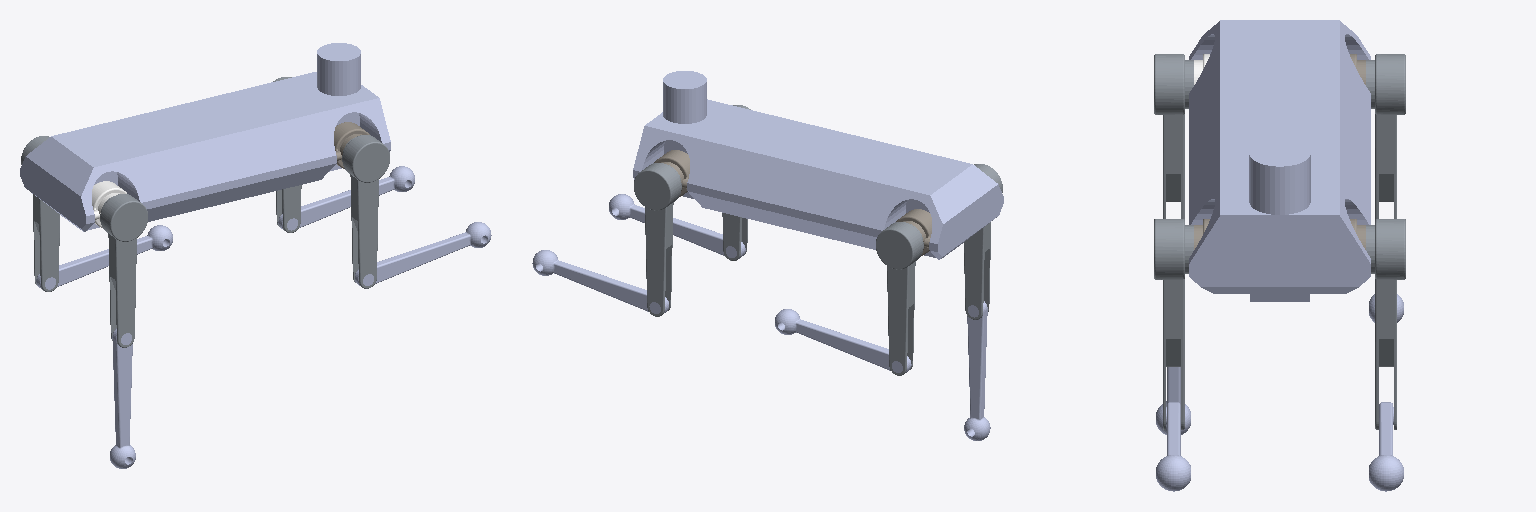
robot.urdf — quadog:
<?xml version="1.0" encoding="utf-8"?>
<!-- This URDF was automatically created by SolidWorks to URDF Exporter! Originally created by [author] ([email redacted]) 
     Commit Version: 1.5.1-0-g916b5db  Build Version: 1.5.7152.31018
     For more information, please see http://wiki.ros.org/sw_urdf_exporter -->
<robot
  name="quadog">
  <link
    name="Body_Link">
    <inertial>
      <origin
        xyz="0.01151 5.0984E-17 0.016155"
        rpy="0 0 0" />
      <mass
        value="29.667" />
      <inertia
        ixx="0.21965"
        ixy="-2.7726E-06"
        ixz="-0.037233"
        iyy="1.3704"
        iyz="8.7205E-18"
        izz="1.4281" />
    </inertial>
    <visual>
      <origin
        xyz="0 0 0"
        rpy="0 0 0" />
      <geometry>
        <mesh
          filename="package://quadog/meshes/Body_Link.STL" />
      </geometry>
      <material
        name="">
        <color
          rgba="0.79216 0.81961 0.93333 1" />
      </material>
    </visual>
    <collision>
      <origin
        xyz="0 0 0"
        rpy="0 0 0" />
      <geometry>
        <mesh
          filename="package://quadog/meshes/Body_Link.STL" />
      </geometry>
    </collision>
  </link>
  <link
    name="FLHipX_Link">
    <inertial>
      <origin
        xyz="-5.7744E-09 -0.029179 -4.2593E-09"
        rpy="0 0 0" />
      <mass
        value="3.8044" />
      <inertia
        ixx="0.0034294"
        ixy="-2.5472E-09"
        ixz="6.2073E-10"
        iyy="0.0046349"
        iyz="4.0148E-10"
        izz="0.0037065" />
    </inertial>
    <visual>
      <origin
        xyz="0 0 0"
        rpy="0 0 0" />
      <geometry>
        <mesh
          filename="package://quadog/meshes/FLHipX_Link.STL" />
      </geometry>
      <material
        name="">
        <color
          rgba="0.64706 0.61961 0.58824 1" />
      </material>
    </visual>
    <collision>
      <origin
        xyz="0 0 0"
        rpy="0 0 0" />
      <geometry>
        <mesh
          filename="package://quadog/meshes/FLHipX_Link.STL" />
      </geometry>
    </collision>
  </link>
  <joint
    name="FLHipX"
    type="revolute">
    <origin
      xyz="0.3175 0.136 0"
      rpy="0 0 0" />
    <parent
      link="Body_Link" />
    <child
      link="FLHipX_Link" />
    <axis
      xyz="1 0 0" />
    <limit
      lower="-0.3839"
      upper="0.3839"
      effort="108"
      velocity="18.6" />
    <dynamics
      damping="0"
      friction="0.01" />
  </joint>
  <link
    name="FLHipY_Link">
    <inertial>
      <origin
        xyz="6.1702E-09 0.00113 -0.058499"
        rpy="0 0 0" />
      <mass
        value="5.5642" />
      <inertia
        ixx="0.039798"
        ixy="-2.3659E-09"
        ixz="3.4687E-09"
        iyy="0.040888"
        iyz="-0.00036845"
        izz="0.0037562" />
    </inertial>
    <visual>
      <origin
        xyz="0 0 0"
        rpy="0 0 0" />
      <geometry>
        <mesh
          filename="package://quadog/meshes/FLHipY_Link.STL" />
      </geometry>
      <material
        name="">
        <color
          rgba="0.61569 0.64314 0.67451 1" />
      </material>
    </visual>
    <collision>
      <origin
        xyz="0 0 0"
        rpy="0 0 0" />
      <geometry>
        <mesh
          filename="package://quadog/meshes/FLHipY_Link.STL" />
      </geometry>
    </collision>
  </link>
  <joint
    name="FLHipY"
    type="revolute">
    <origin
      xyz="0 0.0370000000000001 0"
      rpy="0 0 0" />
    <parent
      link="FLHipX_Link" />
    <child
      link="FLHipY_Link" />
    <axis
      xyz="0 1 0" />
    <limit
      lower="-0.1745"
      upper="1.658"
      effort="140"
      velocity="19" />
    <dynamics
      damping="0"
      friction="0.01" />
  </joint>
  <link
    name="FLKnee_Link">
    <inertial>
      <origin
        xyz="0 -8.3267E-17 -0.16377"
        rpy="0 0 0" />
      <mass
        value="0.33298" />
      <inertia
        ixx="0.0041845"
        ixy="3.1098E-10"
        ixz="1.693E-18"
        iyy="0.0042044"
        iyz="-6.8865E-19"
        izz="7.2362E-05" />
    </inertial>
    <visual>
      <origin
        xyz="0 0 0"
        rpy="0 0 0" />
      <geometry>
        <mesh
          filename="package://quadog/meshes/FLKnee_Link.STL" />
      </geometry>
      <material
        name="">
        <color
          rgba="0.79216 0.81961 0.93333 1" />
      </material>
    </visual>
    <collision>
      <origin
        xyz="0 0 0"
        rpy="0 0 0" />
      <geometry>
        <mesh
          filename="package://quadog/meshes/FLKnee_Link.STL" />
      </geometry>
    </collision>
  </link>
  <joint
    name="FLKnee"
    type="revolute">
    <origin
      xyz="0 0 -0.3"
      rpy="0 0 0" />
    <parent
      link="FLHipY_Link" />
    <child
      link="FLKnee_Link" />
    <axis
      xyz="0 1 0" />
    <limit
      lower="-2.7227"
      upper="-0.6632"
      effort="140"
      velocity="19" />
    <dynamics
      damping="0"
      friction="0.01" />
  </joint>
  <link
    name="HLHipX_Link">
    <inertial>
      <origin
        xyz="-5.7744E-09 -0.029179 -4.2593E-09"
        rpy="0 0 0" />
      <mass
        value="3.8044" />
      <inertia
        ixx="0.0034294"
        ixy="-2.5472E-09"
        ixz="6.2073E-10"
        iyy="0.0046349"
        iyz="4.0148E-10"
        izz="0.0037065" />
    </inertial>
    <visual>
      <origin
        xyz="0 0 0"
        rpy="0 0 0" />
      <geometry>
        <mesh
          filename="package://quadog/meshes/HLHipX_Link.STL" />
      </geometry>
      <material
        name="">
        <color
          rgba="0.64706 0.61961 0.58824 1" />
      </material>
    </visual>
    <collision>
      <origin
        xyz="0 0 0"
        rpy="0 0 0" />
      <geometry>
        <mesh
          filename="package://quadog/meshes/HLHipX_Link.STL" />
      </geometry>
    </collision>
  </link>
  <joint
    name="HLHipX"
    type="revolute">
    <origin
      xyz="-0.3175 0.136 0"
      rpy="0 0 0" />
    <parent
      link="Body_Link" />
    <child
      link="HLHipX_Link" />
    <axis
      xyz="1 0 0" />
    <limit
      lower="-0.3839"
      upper="0.3839"
      effort="108"
      velocity="18.6" />
    <dynamics
      damping="0"
      friction="0.01" />
  </joint>
  <link
    name="HLHipY_Link">
    <inertial>
      <origin
        xyz="6.1702E-09 0.00113 -0.058499"
        rpy="0 0 0" />
      <mass
        value="5.5642" />
      <inertia
        ixx="0.039798"
        ixy="-2.3659E-09"
        ixz="3.4687E-09"
        iyy="0.040888"
        iyz="-0.00036845"
        izz="0.0037562" />
    </inertial>
    <visual>
      <origin
        xyz="0 0 0"
        rpy="0 0 0" />
      <geometry>
        <mesh
          filename="package://quadog/meshes/HLHipY_Link.STL" />
      </geometry>
      <material
        name="">
        <color
          rgba="0.61569 0.64314 0.67451 1" />
      </material>
    </visual>
    <collision>
      <origin
        xyz="0 0 0"
        rpy="0 0 0" />
      <geometry>
        <mesh
          filename="package://quadog/meshes/HLHipY_Link.STL" />
      </geometry>
    </collision>
  </link>
  <joint
    name="HLHipY"
    type="revolute">
    <origin
      xyz="0 0.037 0"
      rpy="0 0 0" />
    <parent
      link="HLHipX_Link" />
    <child
      link="HLHipY_Link" />
    <axis
      xyz="0 1 0" />
    <limit
      lower="-0.1745"
      upper="1.658"
      effort="140"
      velocity="19" />
    <dynamics
      damping="0"
      friction="0.01" />
  </joint>
  <link
    name="HLKnee_Link">
    <inertial>
      <origin
        xyz="0 0 -0.16377"
        rpy="0 0 0" />
      <mass
        value="0.33298" />
      <inertia
        ixx="0.0041845"
        ixy="3.1098E-10"
        ixz="1.4157E-18"
        iyy="0.0042044"
        iyz="-8.7851E-19"
        izz="7.2362E-05" />
    </inertial>
    <visual>
      <origin
        xyz="0 0 0"
        rpy="0 0 0" />
      <geometry>
        <mesh
          filename="package://quadog/meshes/HLKnee_Link.STL" />
      </geometry>
      <material
        name="">
        <color
          rgba="0.79216 0.81961 0.93333 1" />
      </material>
    </visual>
    <collision>
      <origin
        xyz="0 0 0"
        rpy="0 0 0" />
      <geometry>
        <mesh
          filename="package://quadog/meshes/HLKnee_Link.STL" />
      </geometry>
    </collision>
  </link>
  <joint
    name="HLKnee"
    type="revolute">
    <origin
      xyz="0 0 -0.3"
      rpy="0 0 0" />
    <parent
      link="HLHipY_Link" />
    <child
      link="HLKnee_Link" />
    <axis
      xyz="0 1 0" />
    <limit
      lower="-2.7227"
      upper="-0.6632"
      effort="140"
      velocity="19" />
    <dynamics
      damping="0"
      friction="0.01" />
  </joint>
  <link
    name="FRHipX_Link">
    <inertial>
      <origin
        xyz="-5.7744E-09 0.029179 4.2593E-09"
        rpy="0 0 0" />
      <mass
        value="3.8044" />
      <inertia
        ixx="0.0034294"
        ixy="2.5472E-09"
        ixz="-6.2073E-10"
        iyy="0.0046349"
        iyz="4.0148E-10"
        izz="0.0037065" />
    </inertial>
    <visual>
      <origin
        xyz="0 0 0"
        rpy="0 0 0" />
      <geometry>
        <mesh
          filename="package://quadog/meshes/FRHipX_Link.STL" />
      </geometry>
      <material
        name="">
        <color
          rgba="0.64706 0.61961 0.58824 1" />
      </material>
    </visual>
    <collision>
      <origin
        xyz="0 0 0"
        rpy="0 0 0" />
      <geometry>
        <mesh
          filename="package://quadog/meshes/FRHipX_Link.STL" />
      </geometry>
    </collision>
  </link>
  <joint
    name="FRHipX"
    type="revolute">
    <origin
      xyz="0.3175 -0.136 0"
      rpy="0 0 0" />
    <parent
      link="Body_Link" />
    <child
      link="FRHipX_Link" />
    <axis
      xyz="1 0 0" />
    <limit
      lower="-0.3839"
      upper="0.3839"
      effort="108"
      velocity="18.6" />
    <dynamics
      damping="0"
      friction="0.01" />
  </joint>
  <link
    name="FRHipY_Link">
    <inertial>
      <origin
        xyz="-6.1702E-09 -0.00113 -0.058499"
        rpy="0 0 0" />
      <mass
        value="5.5642" />
      <inertia
        ixx="0.039798"
        ixy="-2.3659E-09"
        ixz="-3.4687E-09"
        iyy="0.040888"
        iyz="0.00036845"
        izz="0.0037562" />
    </inertial>
    <visual>
      <origin
        xyz="0 0 0"
        rpy="0 0 0" />
      <geometry>
        <mesh
          filename="package://quadog/meshes/FRHipY_Link.STL" />
      </geometry>
      <material
        name="">
        <color
          rgba="0.61569 0.64314 0.67451 1" />
      </material>
    </visual>
    <collision>
      <origin
        xyz="0 0 0"
        rpy="0 0 0" />
      <geometry>
        <mesh
          filename="package://quadog/meshes/FRHipY_Link.STL" />
      </geometry>
    </collision>
  </link>
  <joint
    name="FRHipY"
    type="revolute">
    <origin
      xyz="0 -0.037 0"
      rpy="0 0 0" />
    <parent
      link="FRHipX_Link" />
    <child
      link="FRHipY_Link" />
    <axis
      xyz="0 1 0" />
    <limit
      lower="-0.1745"
      upper="1.658"
      effort="140"
      velocity="19" />
    <dynamics
      damping="0"
      friction="0.01" />
  </joint>
  <link
    name="FRKnee_Link">
    <inertial>
      <origin
        xyz="1.1102E-16 1.3878E-16 -0.16377"
        rpy="0 0 0" />
      <mass
        value="0.33298" />
      <inertia
        ixx="0.0041845"
        ixy="3.1098E-10"
        ixz="-9.8165E-19"
        iyy="0.0042044"
        iyz="-4.3862E-19"
        izz="7.2362E-05" />
    </inertial>
    <visual>
      <origin
        xyz="0 0 0"
        rpy="0 0 0" />
      <geometry>
        <mesh
          filename="package://quadog/meshes/FRKnee_Link.STL" />
      </geometry>
      <material
        name="">
        <color
          rgba="0.79216 0.81961 0.93333 1" />
      </material>
    </visual>
    <collision>
      <origin
        xyz="0 0 0"
        rpy="0 0 0" />
      <geometry>
        <mesh
          filename="package://quadog/meshes/FRKnee_Link.STL" />
      </geometry>
    </collision>
  </link>
  <joint
    name="FRKnee"
    type="revolute">
    <origin
      xyz="0 0 -0.3"
      rpy="0 0 0" />
    <parent
      link="FRHipY_Link" />
    <child
      link="FRKnee_Link" />
    <axis
      xyz="0 1 0" />
    <limit
      lower="-2.7227"
      upper="-0.6632"
      effort="140"
      velocity="19" />
    <dynamics
      damping="0"
      friction="0.01" />
  </joint>
  <link
    name="HRHipX_Link">
    <inertial>
      <origin
        xyz="0 0 0"
        rpy="0 0 0" />
      <mass
        value="0" />
      <inertia
        ixx="0"
        ixy="0"
        ixz="0"
        iyy="0"
        iyz="0"
        izz="0" />
    </inertial>
    <visual>
      <origin
        xyz="0 0 0"
        rpy="0 0 0" />
      <geometry>
        <mesh
          filename="package://quadog/meshes/HRHipX_Link.STL" />
      </geometry>
      <material
        name="">
        <color
          rgba="1 1 1 1" />
      </material>
    </visual>
    <collision>
      <origin
        xyz="0 0 0"
        rpy="0 0 0" />
      <geometry>
        <mesh
          filename="package://quadog/meshes/HRHipX_Link.STL" />
      </geometry>
    </collision>
  </link>
  <joint
    name="HRHipX"
    type="revolute">
    <origin
      xyz="-0.3175 -0.136 0"
      rpy="0 0 0" />
    <parent
      link="Body_Link" />
    <child
      link="HRHipX_Link" />
    <axis
      xyz="1 0 0" />
    <limit
      lower="-0.3839"
      upper="0.3839"
      effort="108"
      velocity="18.6" />
    <dynamics
      damping="0"
      friction="0.01" />
  </joint>
  <link
    name="HRHipY_Link">
    <inertial>
      <origin
        xyz="-6.1702E-09 -0.00113 -0.058499"
        rpy="0 0 0" />
      <mass
        value="5.5642" />
      <inertia
        ixx="0.039798"
        ixy="-2.3659E-09"
        ixz="-3.4687E-09"
        iyy="0.040888"
        iyz="0.00036845"
        izz="0.0037562" />
    </inertial>
    <visual>
      <origin
        xyz="0 0 0"
        rpy="0 0 0" />
      <geometry>
        <mesh
          filename="package://quadog/meshes/HRHipY_Link.STL" />
      </geometry>
      <material
        name="">
        <color
          rgba="0.61569 0.64314 0.67451 1" />
      </material>
    </visual>
    <collision>
      <origin
        xyz="0 0 0"
        rpy="0 0 0" />
      <geometry>
        <mesh
          filename="package://quadog/meshes/HRHipY_Link.STL" />
      </geometry>
    </collision>
  </link>
  <joint
    name="HRHipY"
    type="revolute">
    <origin
      xyz="0 -0.037 0"
      rpy="0 0 0" />
    <parent
      link="HRHipX_Link" />
    <child
      link="HRHipY_Link" />
    <axis
      xyz="0 1 0" />
    <limit
      lower="-0.1745"
      upper="1.658"
      effort="140"
      velocity="19" />
    <dynamics
      damping="0"
      friction="0.01" />
  </joint>
  <link
    name="HRKnee_Link">
    <inertial>
      <origin
        xyz="5.5511E-17 -2.7756E-17 -0.16377"
        rpy="0 0 0" />
      <mass
        value="0.33298" />
      <inertia
        ixx="0.0041845"
        ixy="3.1098E-10"
        ixz="1.5955E-18"
        iyy="0.0042044"
        iyz="-4.4296E-19"
        izz="7.2362E-05" />
    </inertial>
    <visual>
      <origin
        xyz="0 0 0"
        rpy="0 0 0" />
      <geometry>
        <mesh
          filename="package://quadog/meshes/HRKnee_Link.STL" />
      </geometry>
      <material
        name="">
        <color
          rgba="0.79216 0.81961 0.93333 1" />
      </material>
    </visual>
    <collision>
      <origin
        xyz="0 0 0"
        rpy="0 0 0" />
      <geometry>
        <mesh
          filename="package://quadog/meshes/HRKnee_Link.STL" />
      </geometry>
    </collision>
  </link>
  <joint
    name="HRKnee"
    type="revolute">
    <origin
      xyz="0 0 -0.3"
      rpy="0 0 0" />
    <parent
      link="HRHipY_Link" />
    <child
      link="HRKnee_Link" />
    <axis
      xyz="0 1 0" />
    <limit
      lower="-2.7227"
      upper="0.6632"
      effort="140"
      velocity="19" />
    <dynamics
      damping="0"
      friction="0.01" />
  </joint>
</robot>

--- Render facts (derived) ---
3 views of the same robot in one strip: view 1: azimuth 30°, elevation 25°; view 2: azimuth 150°, elevation 25°; view 3: azimuth 270°, elevation 25° (orthographic).
Model quadog with 13 links and 12 joints (12 revolute), rooted at Body_Link, posed joints at zero except 3 at the middle of their limits (FLKnee = -1.69, HLKnee = -1.69, FRKnee = -1.69).
Links seen in each view (by area): view 1: Body_Link, FRHipY_Link, HRHipY_Link, HRKnee_Link, FRKnee_Link, HLHipY_Link, FLKnee_Link, HLKnee_Link, FLHipY_Link, FRHipX_Link, HRHipX_Link; view 2: Body_Link, FLHipY_Link, HLHipY_Link, HRKnee_Link, HLKnee_Link, FLKnee_Link, HRHipY_Link, FRKnee_Link, FRHipY_Link, HLHipX_Link, FLHipX_Link; view 3: Body_Link, FLHipY_Link, FRHipY_Link, HLHipY_Link, HRHipY_Link, FLKnee_Link, FRKnee_Link, HRKnee_Link.
Link boxes in pixels (box(x1,y1,x2,y2)): Body_Link: box(20, 43, 390, 231); FRHipY_Link: box(342, 135, 389, 288); HRHipY_Link: box(100, 194, 147, 347); HRKnee_Link: box(110, 328, 135, 468); FRKnee_Link: box(355, 222, 491, 285); HLHipY_Link: box(21, 136, 59, 291); FLKnee_Link: box(278, 166, 414, 230); HLKnee_Link: box(36, 225, 172, 289); FLHipY_Link: box(273, 77, 301, 232); FRHipX_Link: box(334, 122, 369, 168); HRHipX_Link: box(92, 181, 126, 227); Body_Link: box(633, 71, 1003, 259); FLHipY_Link: box(634, 163, 681, 316); HLHipY_Link: box(876, 222, 923, 375); HRKnee_Link: box(964, 301, 990, 440); HLKnee_Link: box(775, 309, 911, 372); FLKnee_Link: box(532, 250, 668, 313); HRHipY_Link: box(964, 164, 1002, 319); FRKnee_Link: box(609, 194, 745, 258); FRHipY_Link: box(722, 105, 750, 260); HLHipX_Link: box(896, 209, 931, 255); FLHipX_Link: box(654, 150, 689, 196); Body_Link: box(1189, 20, 1370, 301); FLHipY_Link: box(1366, 219, 1405, 429); FRHipY_Link: box(1154, 219, 1193, 429); HLHipY_Link: box(1366, 54, 1405, 218); HRHipY_Link: box(1154, 54, 1193, 218); FLKnee_Link: box(1369, 402, 1403, 491); FRKnee_Link: box(1156, 402, 1190, 491); HRKnee_Link: box(1156, 367, 1190, 434).
Size in the robot's own frame: 1.05 by 0.41 by 0.817 metres.
13 mesh visuals loaded from 13 distinct referenced files (13 binary STL).